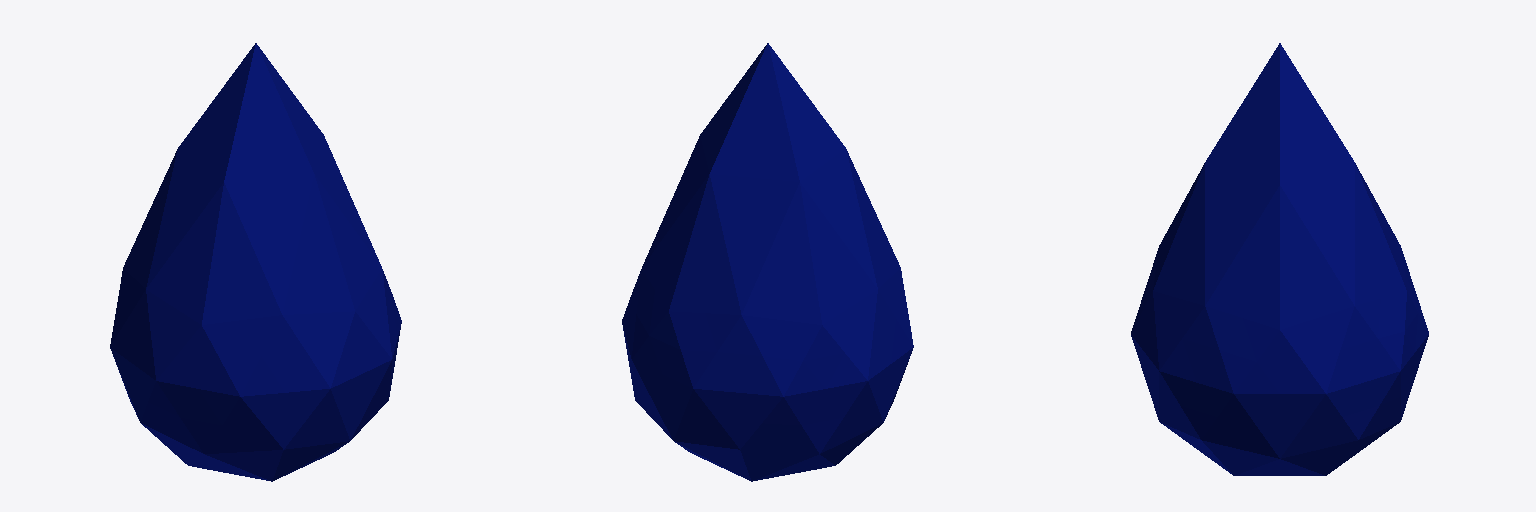
The model's file is droplet.obj.
3 renders of one model, left to right at view 1: azimuth 30°, elevation 25°; view 2: azimuth 150°, elevation 25°; view 3: azimuth 270°, elevation 25°, orthographic.
Visible parts, largest first — view 1: Icosphere; view 2: Icosphere; view 3: Icosphere.
Boxes of the visible parts, x1,y1,x2,y2 form: Icosphere: [110, 43, 401, 481]; Icosphere: [622, 43, 913, 481]; Icosphere: [1131, 43, 1428, 475].
Size of the model in its own units: 0.0944 by 0.1565 by 0.0993.